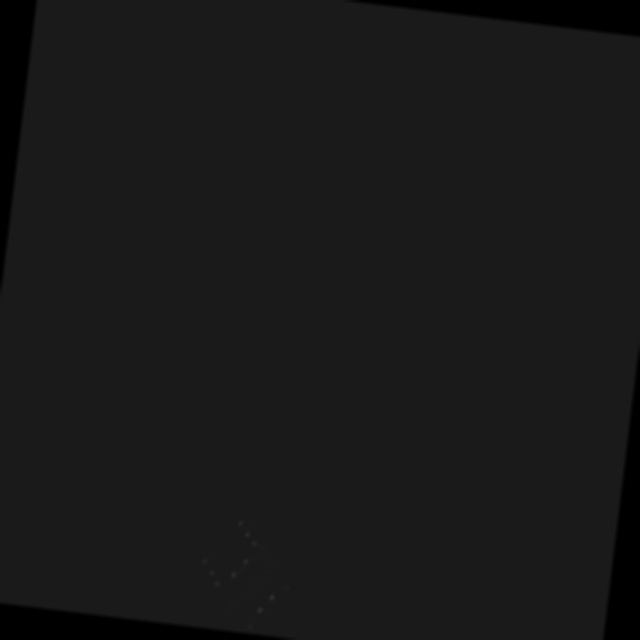satellite: (201, 521, 310, 620)
